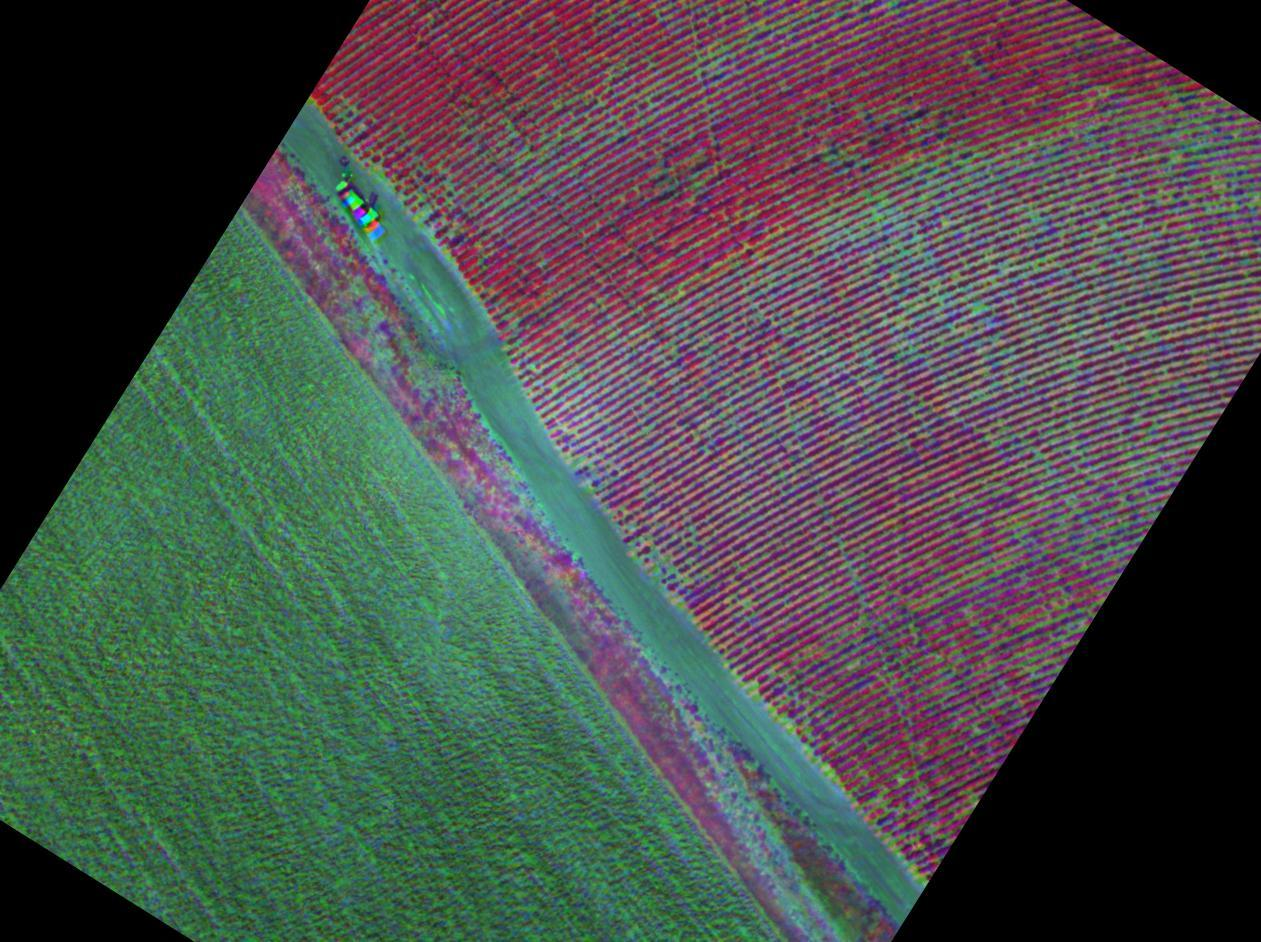dc: (764, 278, 769, 282), (946, 223, 950, 227), (993, 337, 996, 341), (515, 343, 519, 346), (680, 293, 683, 296), (786, 328, 789, 331), (554, 391, 557, 394), (993, 443, 996, 446), (840, 293, 842, 295), (611, 335, 613, 337)
